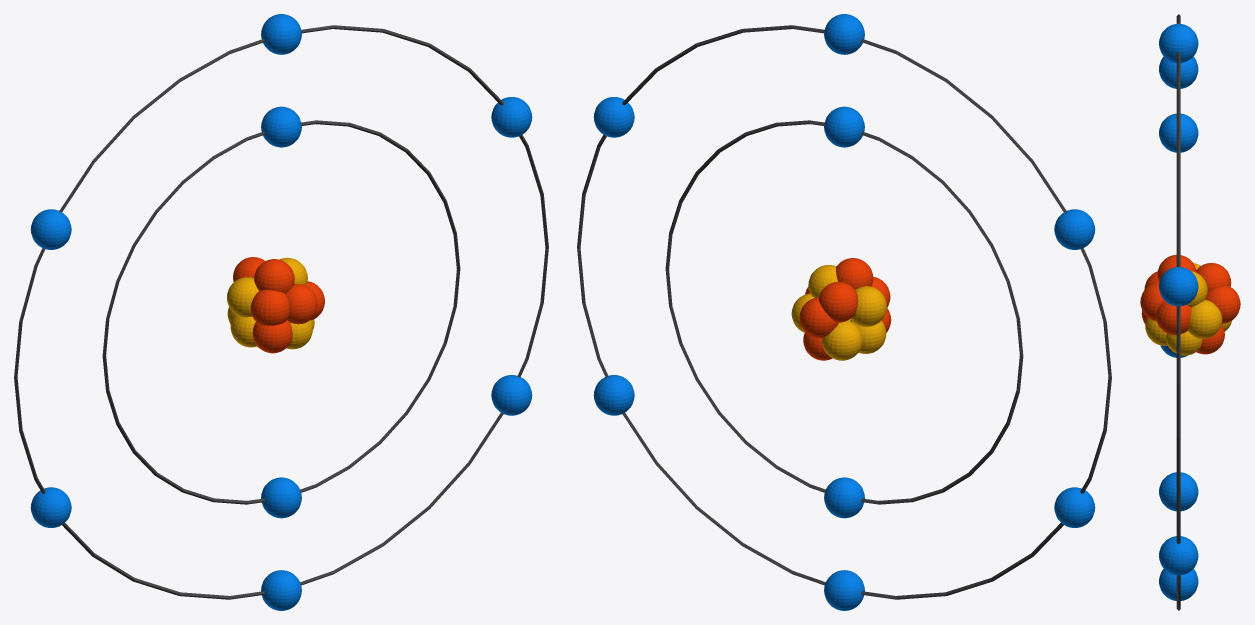
The picture shows the model from 3 angles, left to right: view 1: azimuth 30°, elevation 25°; view 2: azimuth 150°, elevation 25°; view 3: azimuth 270°, elevation 25°; orthographic projection. The views are drawn at different scales.
Parts seen in each view (by area): view 1: Orbit2, Orbit1, Electron.004, Electron.006, Electron, Electron.001, Electron.002, Electron.007, Electron.003, Electron.005, Proton.005, Proton.003 (+3 smaller); view 2: Orbit2, Orbit1, Electron.004, Electron.006, Electron, Electron.001, Electron.002, Electron.007, Electron.003, Electron.005, Proton.006, Neutron.003 (+3 smaller); view 3: Orbit2, Electron.005, Electron.006, Electron.002, Electron, Electron.001, Neutron.001, Electron.007, Electron.004, Proton.004, Proton.001, Proton.006 (+6 smaller).
Boxes of the visible parts, x1,y1,x2,y2 form: Orbit2: (14, 25, 548, 599); Orbit1: (102, 120, 460, 504); Electron.004: (30, 209, 71, 249); Electron.006: (491, 375, 532, 415); Electron: (261, 106, 301, 147); Electron.001: (261, 477, 301, 518); Electron.002: (261, 14, 301, 54); Electron.007: (261, 570, 301, 610); Electron.003: (30, 487, 71, 527); Electron.005: (491, 97, 532, 137); Proton.005: (250, 290, 289, 325); Proton.003: (254, 259, 294, 293); Orbit2: (577, 25, 1111, 599); Orbit1: (665, 120, 1023, 504); Electron.004: (1054, 209, 1095, 249); Electron.006: (593, 375, 634, 415); Electron: (824, 106, 864, 147); Electron.001: (824, 477, 864, 518); Electron.002: (824, 14, 864, 54); Electron.007: (824, 570, 864, 610); Electron.003: (1054, 487, 1095, 527); Electron.005: (593, 97, 634, 137); Proton.006: (818, 281, 858, 322); Neutron.003: (821, 320, 862, 360); Orbit2: (1176, 14, 1180, 610); Electron.005: (1159, 267, 1198, 306); Electron.006: (1159, 536, 1198, 575); Electron.002: (1159, 23, 1198, 62); Electron: (1159, 113, 1198, 152); Electron.001: (1159, 472, 1198, 511); Neutron.001: (1187, 299, 1222, 338); Electron.007: (1159, 569, 1198, 600); Electron.004: (1159, 56, 1198, 88); Proton.004: (1155, 300, 1191, 335); Proton.001: (1205, 286, 1240, 323); Proton.006: (1196, 263, 1231, 292).
Bounding box in the file's own units: 302 × 320 × 50.68.
